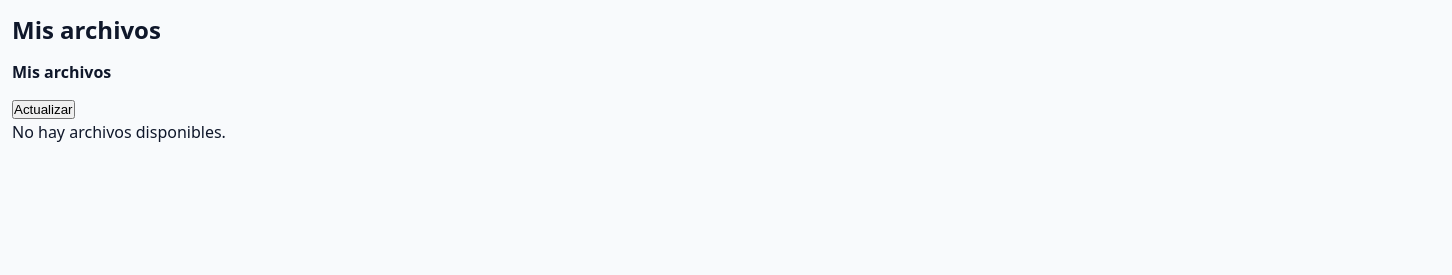
Scenario: listado y descarga en React › muestra vacío y luego pagina datos persistidos
The width and height of the screenshot is (1452, 275).
Expected: the text "No hay archivos disponibles." is shown, [12,121,226,143]
Click the button "Actualizar" at (43, 110), box [12,100,74,119]
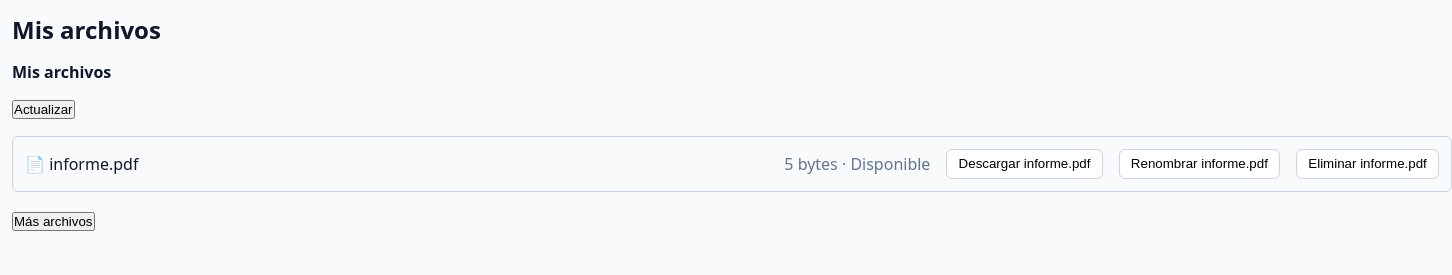
Expected: the button "Descargar informe.pdf" is shown, [946,149,1103,179]
Click the button "Más archivos" at (53, 221), box [12,212,94,231]
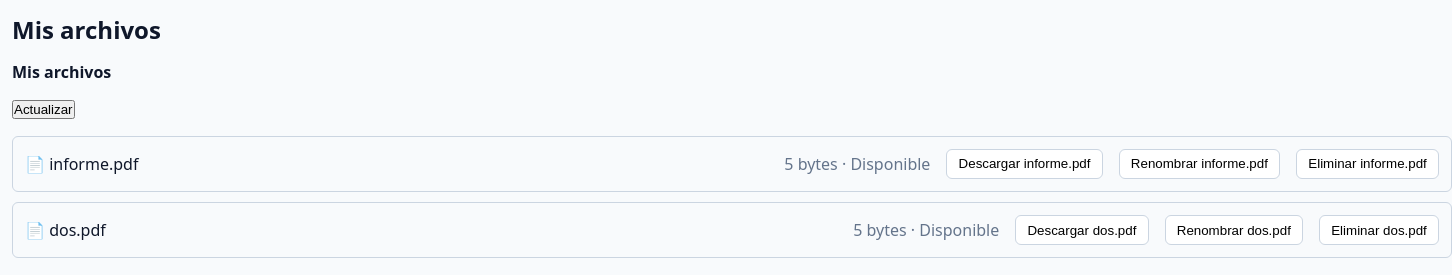
Expected: the button "Descargar dos.pdf" is shown, [1015,215,1149,245]
